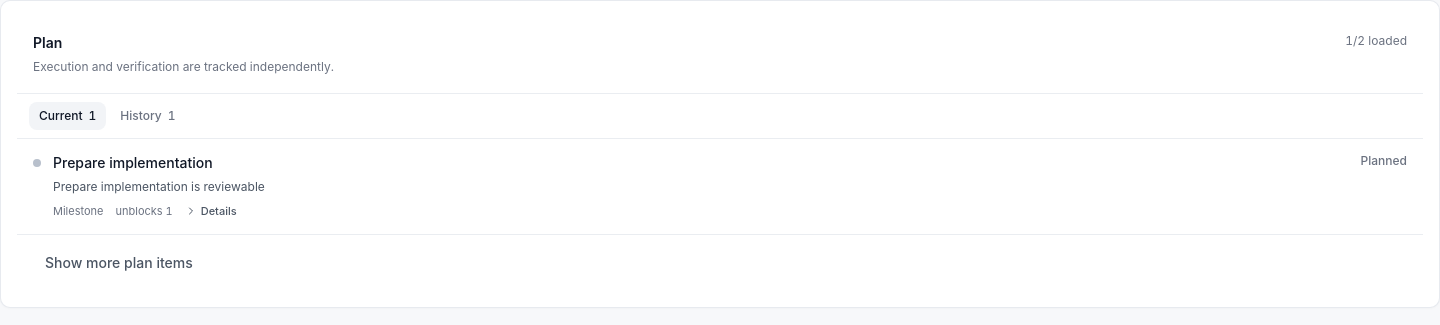
it: rejects a continuation from another graph instead of splicing revisions
Click the button "Show more plan items" at (119,262), box [33,246,205,278]
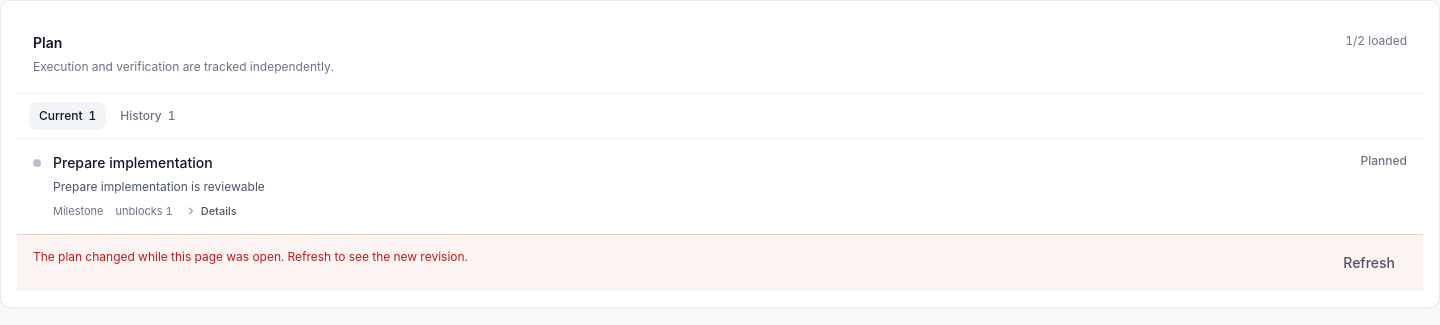
Check: the text "The plan changed while this page was open. Refresh to see the new revision." is shown, box [33,246,468,266]
